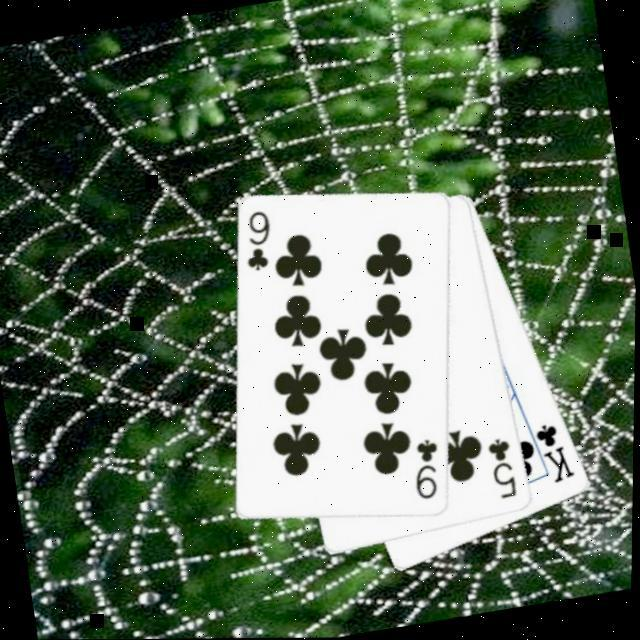5C: (485, 433, 525, 503)
9C: (407, 433, 452, 504), (237, 204, 282, 275)
KC: (523, 415, 582, 490)
